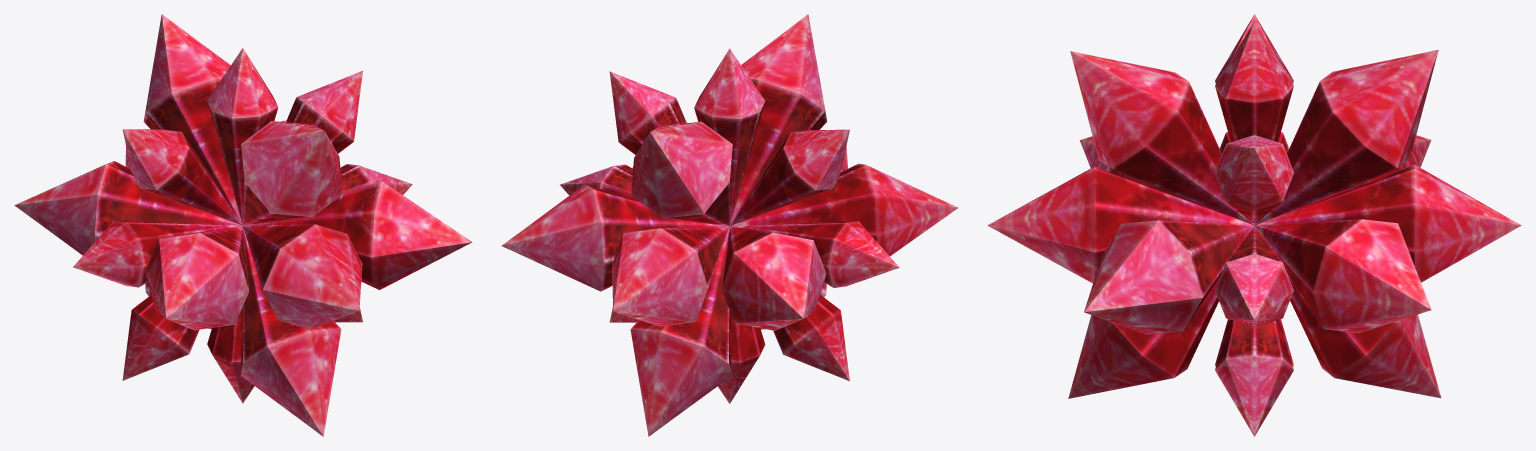
Rendered from dust1.fbx.
The picture shows the model from 3 angles, left to right: view 1: azimuth 30°, elevation 25°; view 2: azimuth 150°, elevation 25°; view 3: azimuth 270°, elevation 25°; orthographic projection. The views are drawn at different scales.
Parts seen in each view (by area): view 1: dust1, dust14, dust16, dust10, dust18, dust17, dust11, dust7, dust6, dust8, dust9, dust5 (+2 smaller); view 2: dust13, dust12, dust15, dust11, dust17, dust18, dust10, dust7, dust6, dust8, dust9, dust5 (+2 smaller); view 3: dust11, dust10, dust15, dust16, dust1, dust12, dust13, dust14, dust6, dust3, dust4, dust5 (+3 smaller).
Part boxes in pixels (x1,y1,x2,y2): dust1: (243,224,362,329); dust14: (241,227,341,436); dust16: (245,181,472,289); dust10: (241,121,342,225); dust18: (145,225,248,330); dust17: (14,161,241,255); dust11: (143,14,242,224); dust7: (122,129,242,225); dust6: (207,48,278,224); dust8: (73,220,241,287); dust9: (122,295,199,380); dust5: (286,70,362,153); dust13: (630,227,731,436); dust12: (612,226,729,326); dust15: (501,184,728,291); dust11: (631,121,732,226); dust17: (721,226,826,330); dust18: (730,163,958,256); dust10: (730,14,827,225); dust7: (730,129,849,225); dust6: (694,48,765,225); dust8: (731,221,899,287); dust9: (773,294,849,381); dust5: (609,71,686,154); dust11: (1255,49,1438,224); dust10: (1070,51,1253,224); dust15: (1254,219,1431,332); dust16: (1084,220,1254,334); dust1: (987,166,1253,283); dust12: (1255,164,1521,282); dust13: (1289,278,1441,398); dust14: (1068,276,1220,398); dust6: (1215,22,1293,142); dust3: (1215,319,1293,436); dust4: (1215,226,1293,326); dust5: (1215,135,1293,225).
Bounding box in the file's own units: 471 × 471 × 559.
